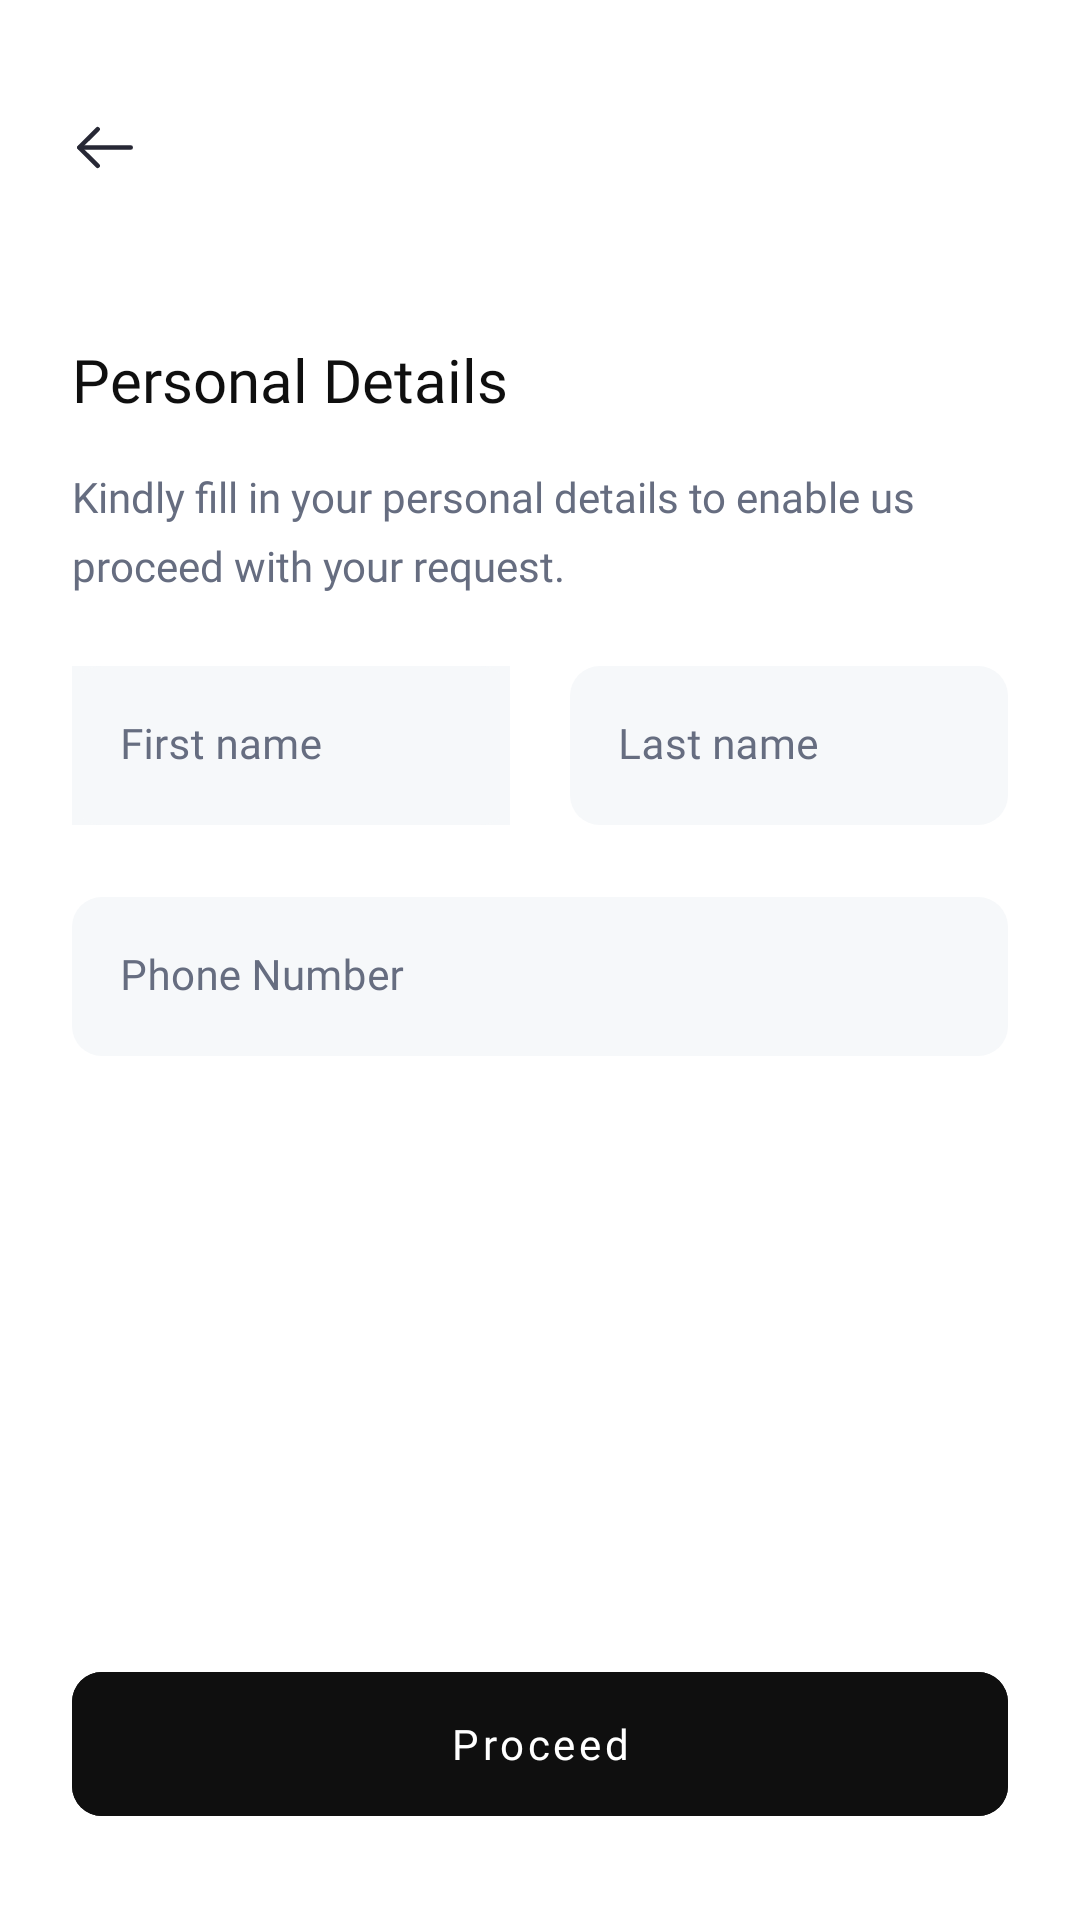

Screen size 1080 × 1920. Icon name, then its box in pixels as (x1, y1, x2, y2):
back: (77, 126, 133, 169)
